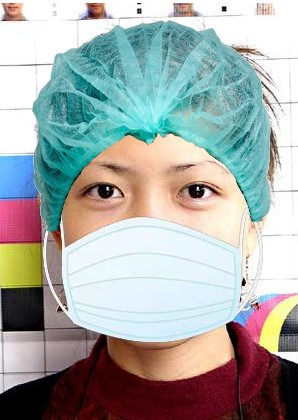with_mask_and_cap: (33, 21, 272, 346)
